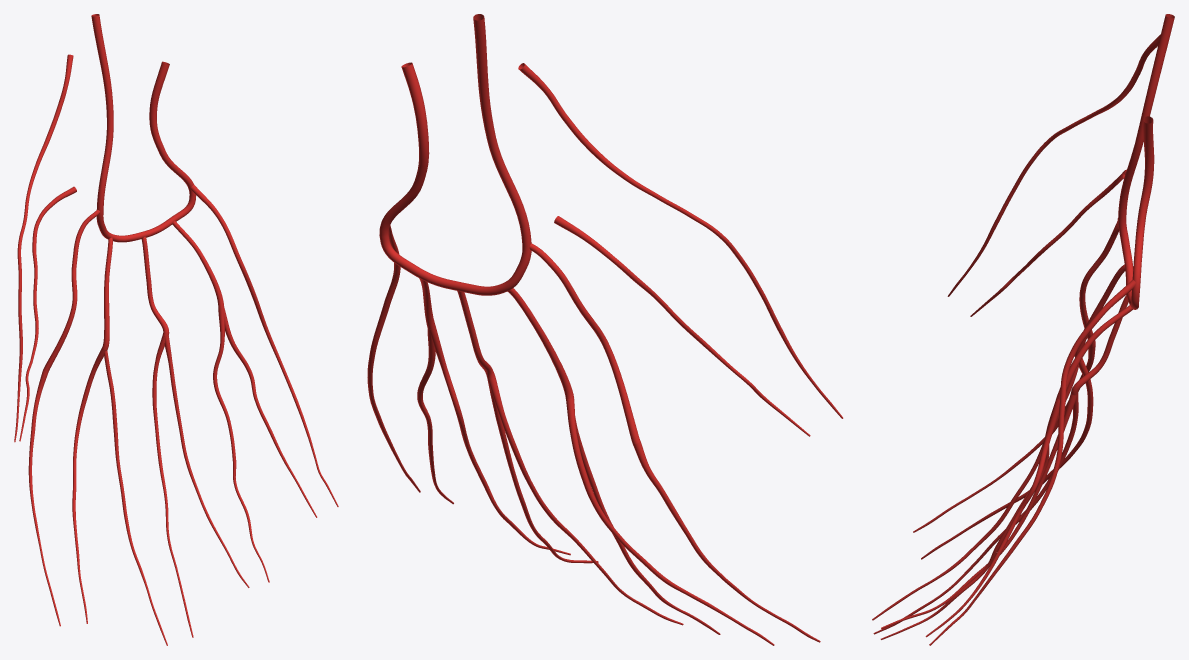
File: circulatorio-superficial-palmar-arch-r.glb
The picture shows the model from 3 angles, left to right: view 1: azimuth 30°, elevation 25°; view 2: azimuth 150°, elevation 25°; view 3: azimuth 270°, elevation 25°; orthographic projection. The views are drawn at different scales.
Parts seen in each view (by area): view 1: Proper palmar digital arteries.r, Superficial palmar arch.r, Common palmar digital arteries.r; view 2: Proper palmar digital arteries.r, Superficial palmar arch.r, Common palmar digital arteries.r; view 3: Proper palmar digital arteries.r, Superficial palmar arch.r, Common palmar digital arteries.r.
Boxes of the visible parts, bbox=[...] form: Proper palmar digital arteries.r: bbox=[14, 54, 338, 645]; Superficial palmar arch.r: bbox=[91, 14, 196, 242]; Common palmar digital arteries.r: bbox=[42, 209, 224, 373]; Proper palmar digital arteries.r: bbox=[367, 63, 843, 645]; Superficial palmar arch.r: bbox=[379, 14, 531, 295]; Common palmar digital arteries.r: bbox=[419, 243, 640, 444]; Proper palmar digital arteries.r: bbox=[872, 34, 1160, 645]; Superficial palmar arch.r: bbox=[1118, 14, 1174, 309]; Common palmar digital arteries.r: bbox=[1056, 218, 1132, 399].
Bounding box in the file's own units: 0.107 × 0.1705 × 0.0736.
